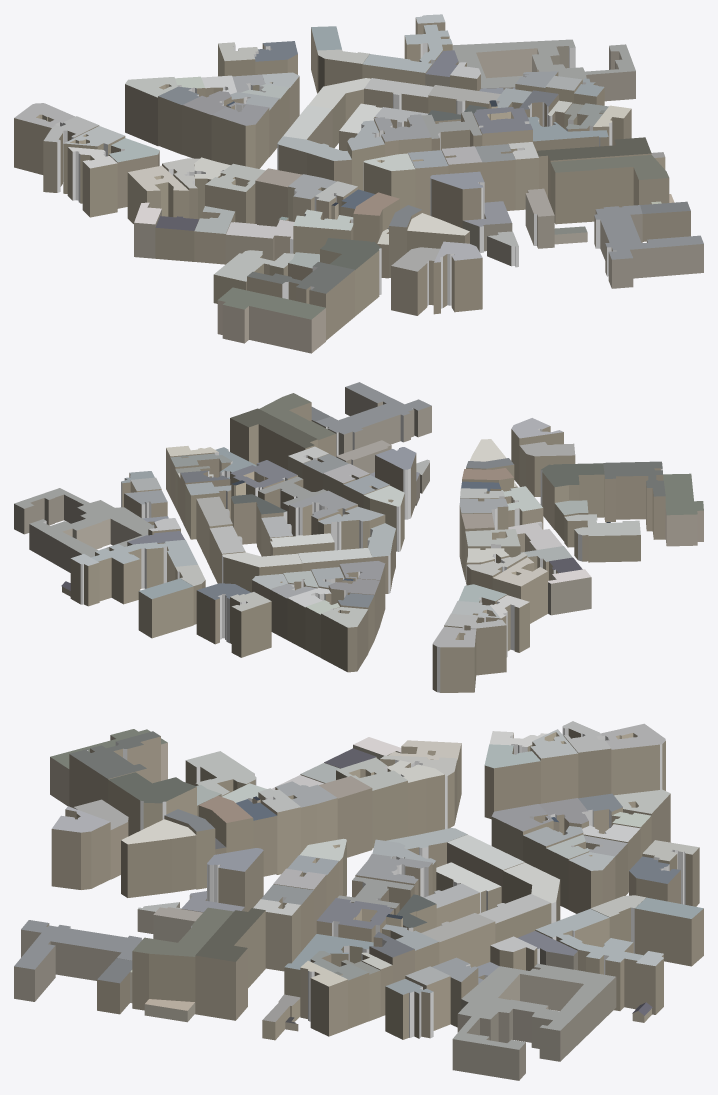
3 renders of one model, top to bottom at view 1: azimuth 30°, elevation 25°; view 2: azimuth 150°, elevation 25°; view 3: azimuth 270°, elevation 25°, orthographic. The views are drawn at different scales.
Parts seen in each view (by area): view 1: tuile; view 2: tuile; view 3: tuile.
Part boxes in pixels (bbox=[...]): tuile: bbox=[14, 14, 703, 353]; tuile: bbox=[14, 382, 703, 692]; tuile: bbox=[14, 721, 703, 1080].
Size of the model in its own units: 313 by 31.02 by 291.
